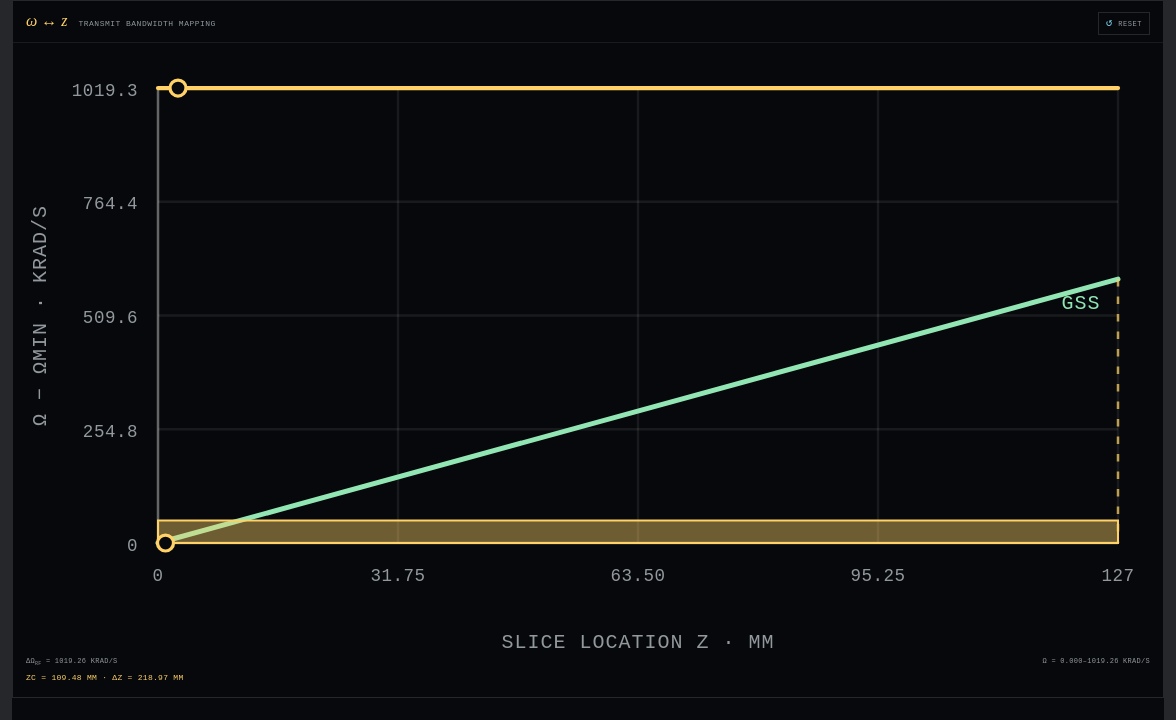
Test case: SliceSelectionMappingGraph › resets an edited transmit band to its default
Earlier steps of the test are not shown.
Click the button with aria-label "Reset transmit bandwidth" at (1124, 24), box [1098,12,1150,35]
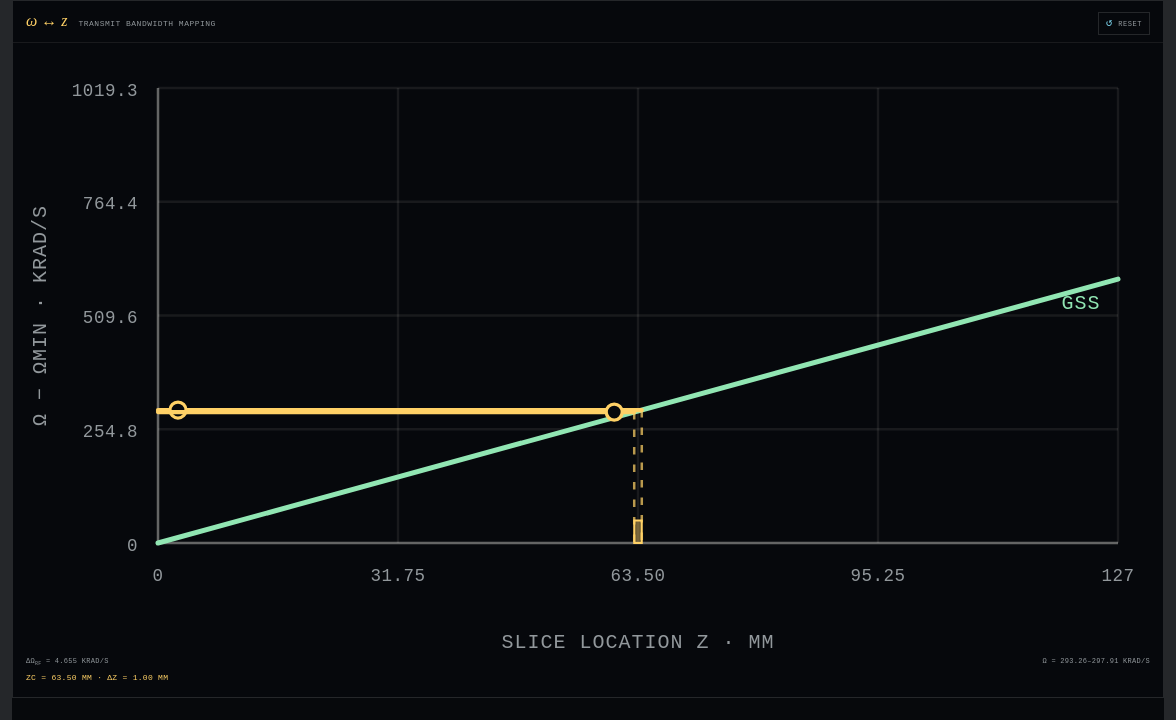
expect the text "zc = 63.50 mm · Δz = 1.00 mm" is shown: met, box [26,673,168,682]
